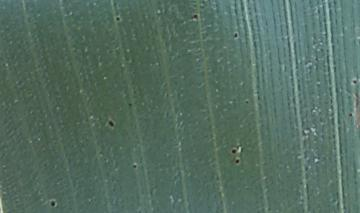tarspot: (105, 117, 117, 130), (47, 197, 57, 211), (230, 29, 241, 41), (229, 143, 239, 156), (189, 12, 200, 22), (232, 156, 243, 166), (242, 96, 251, 108), (130, 160, 138, 172), (113, 13, 122, 23), (345, 110, 355, 119), (125, 100, 135, 109), (351, 77, 359, 88)
